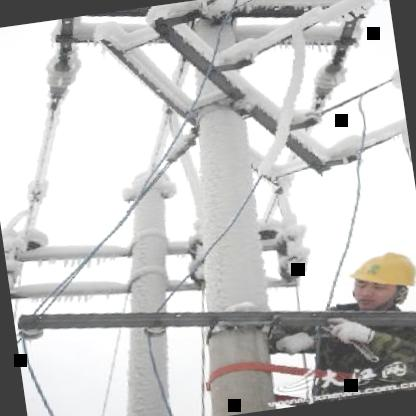helmet: (333, 240, 416, 314)
